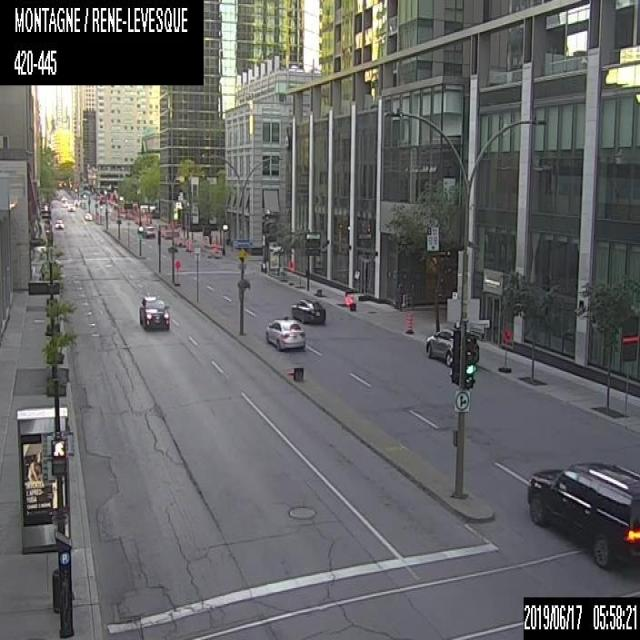construction: (498, 328, 510, 373), (287, 362, 304, 382), (404, 315, 414, 336), (173, 258, 180, 285), (346, 294, 356, 310), (288, 260, 294, 285)
vehicle: (524, 456, 639, 572), (424, 327, 478, 365), (265, 316, 304, 351), (136, 293, 170, 332), (290, 297, 326, 324), (141, 221, 155, 239), (54, 218, 64, 230), (82, 209, 92, 220), (66, 202, 75, 210)
